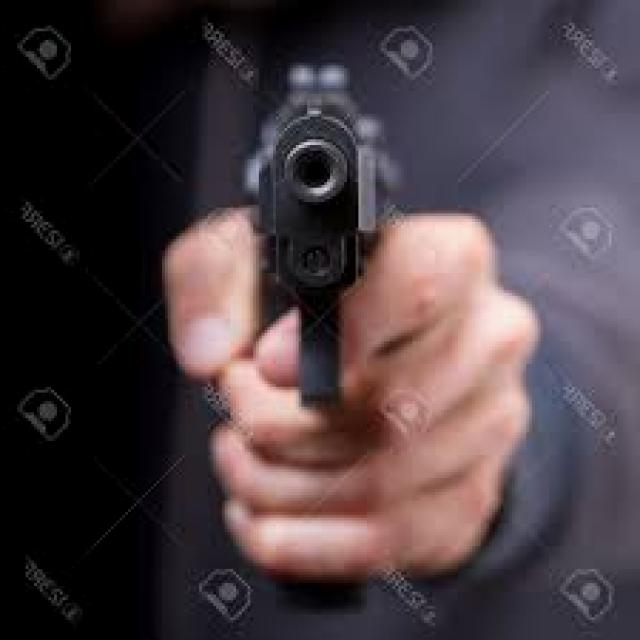pistol: (250, 51, 390, 634)
